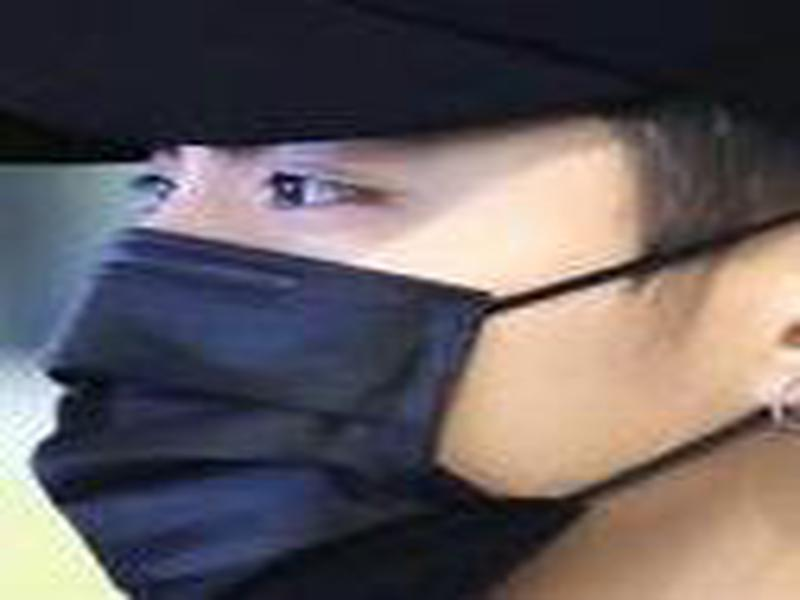with_mask: (4, 1, 797, 598)
